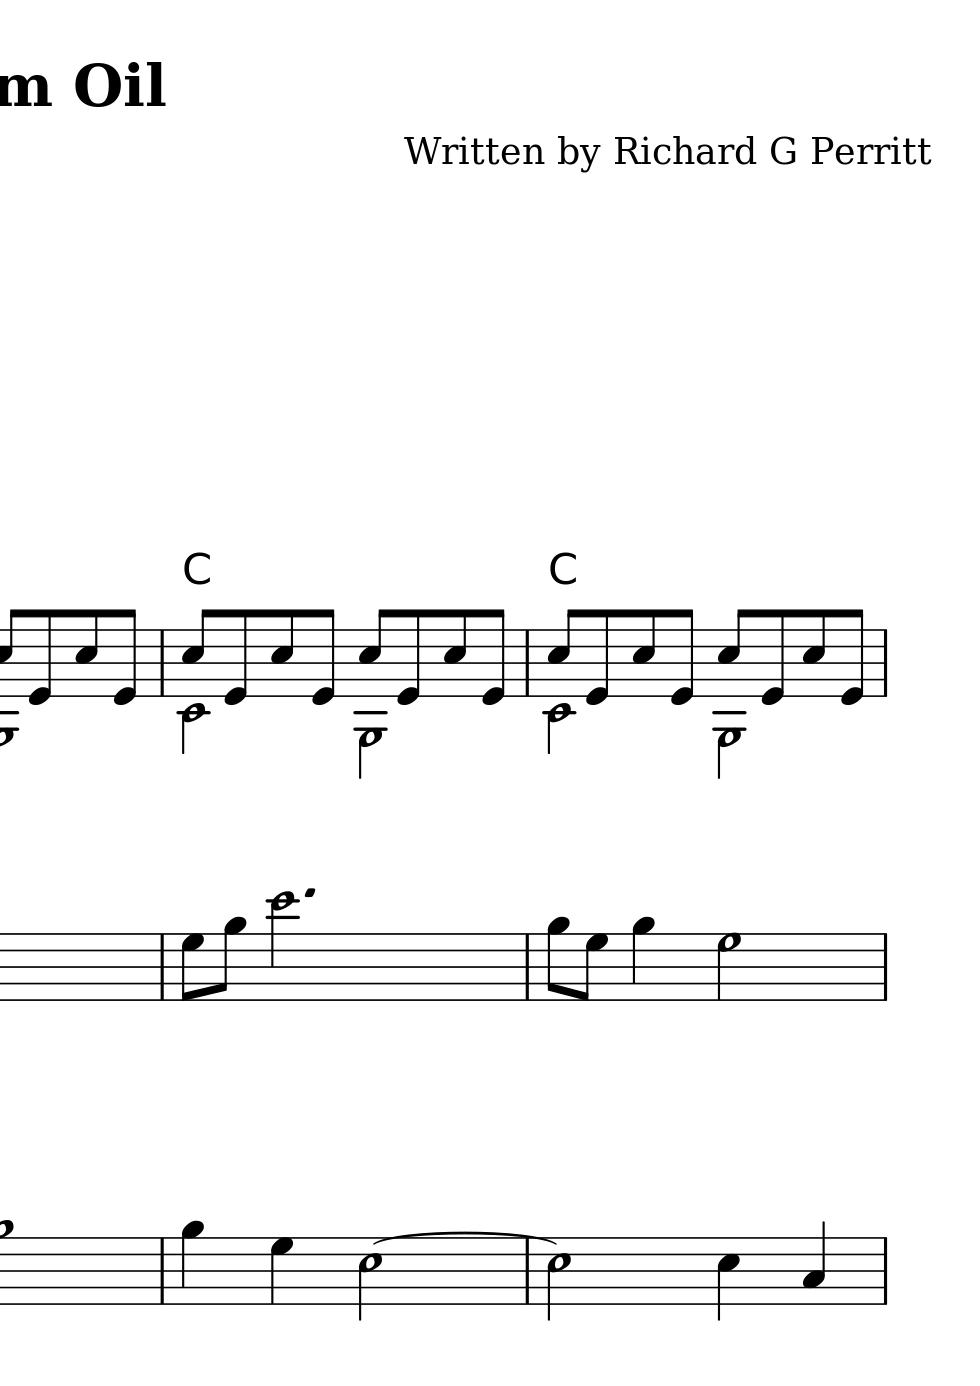2_-2: (177, 628, 209, 754), (544, 627, 576, 753)
2_-5: (714, 625, 750, 779), (353, 627, 389, 780)
2_12: (267, 890, 298, 1002)
2_5: (356, 1235, 383, 1321), (545, 1235, 570, 1322)
2_7: (715, 931, 741, 1001)
4_3: (801, 1220, 827, 1308)
4_5: (715, 1235, 740, 1323)
4_7: (268, 1235, 295, 1306)
4_9: (629, 915, 655, 1002), (179, 1220, 204, 1308)
8_0: (307, 606, 337, 709), (108, 606, 139, 708), (666, 606, 696, 709), (477, 606, 507, 708), (222, 607, 251, 708), (583, 607, 613, 708), (759, 606, 788, 708), (27, 607, 55, 708), (395, 608, 423, 708), (838, 607, 865, 709)
8_5: (715, 607, 748, 695), (265, 607, 296, 699), (356, 606, 387, 698), (547, 609, 578, 701), (182, 609, 213, 701), (627, 607, 657, 698), (439, 607, 468, 698), (798, 607, 826, 698), (72, 607, 100, 699)
8_7: (577, 932, 608, 1002), (179, 931, 204, 1003)
8_9: (213, 915, 247, 1003), (545, 916, 570, 1003)
Single_barline: (876, 933, 893, 1001), (154, 1238, 171, 1303), (877, 629, 893, 697), (154, 934, 170, 1001), (519, 934, 535, 1001), (154, 630, 170, 696), (519, 630, 535, 696), (877, 1238, 892, 1304), (520, 1244, 535, 1304)
Slur: (369, 1230, 556, 1246)
dot: (302, 885, 317, 901)
